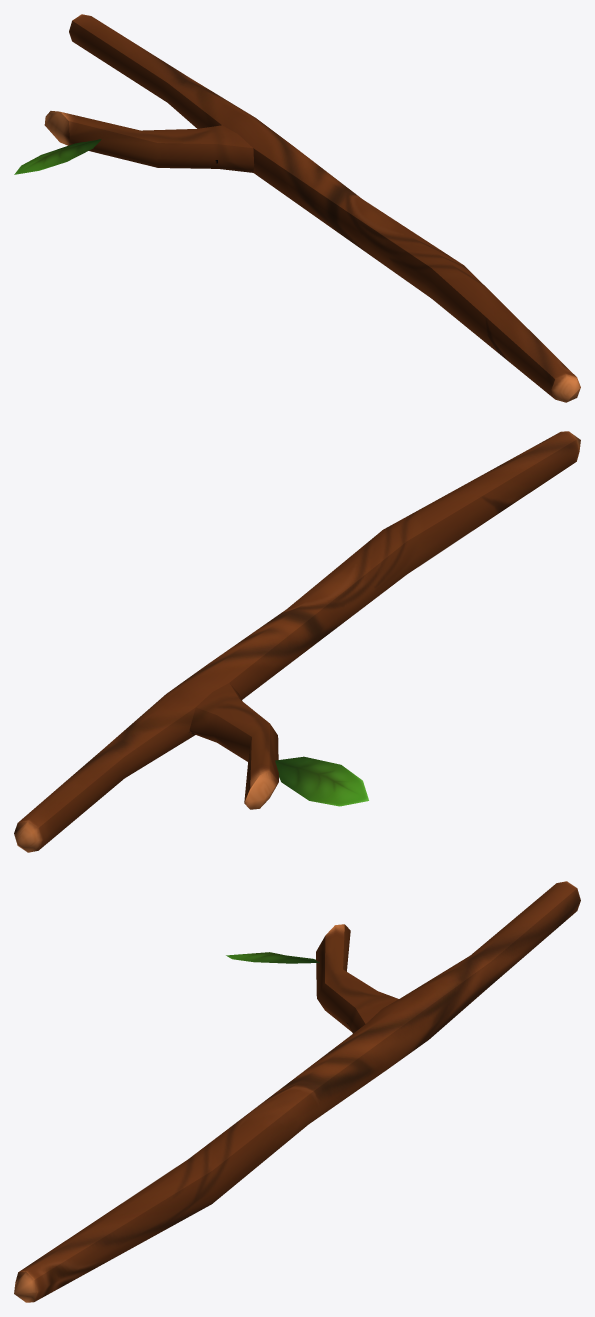
File: branch.fbx
3 renders of one model, top to bottom at view 1: azimuth 30°, elevation 25°; view 2: azimuth 150°, elevation 25°; view 3: azimuth 330°, elevation 25°, orthographic. The views are drawn at different scales.
Parts seen in each view (by area): view 1: branch; view 2: branch; view 3: branch.
Boxes of the visible parts, left/top/right/bottom form: branch: left=14, top=14, right=580, bottom=402; branch: left=14, top=431, right=580, bottom=852; branch: left=14, top=881, right=580, bottom=1302.
Size of the model in its own units: 0.3942 by 0.0716 by 1.55.
